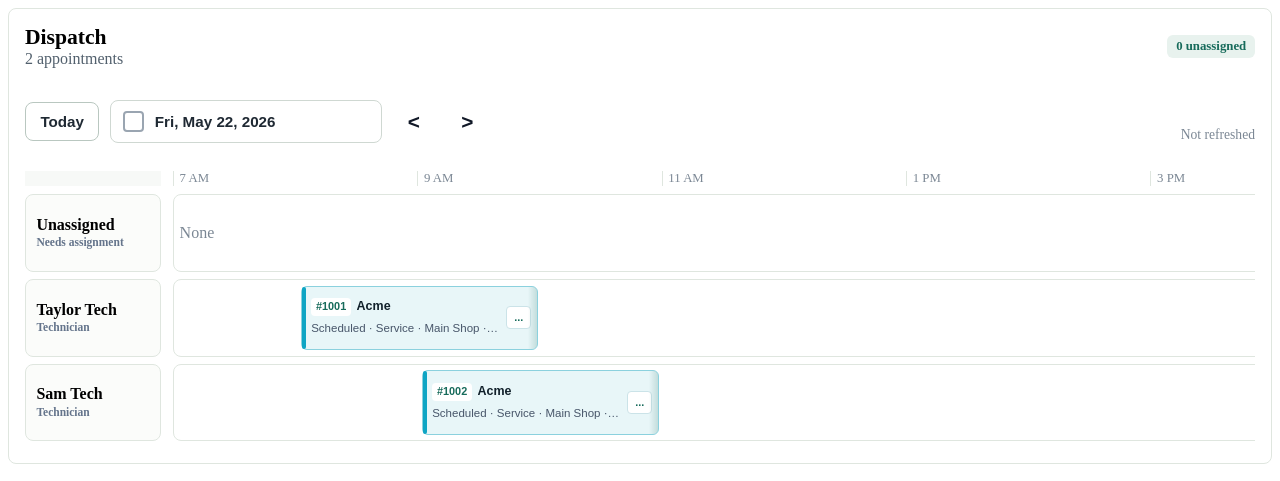
Scenario: DispatchBoardPanel › warns but still saves when reassignment would overlap the target row
Press the mouse on the button with aria-label "Job 1001" at {"x": 401, "y": 318}, box x1=302 y1=287 x2=501 y2=349
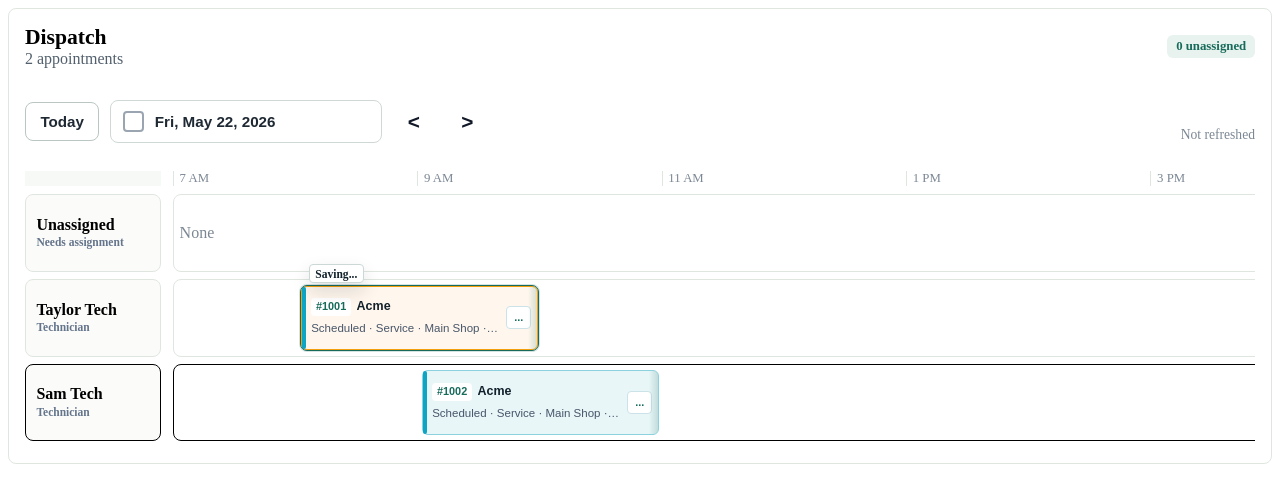
Check: the text "Assign to Sam Tech: Overlaps another appointment" is shown, box x1=309 y1=264 x2=364 y2=283
